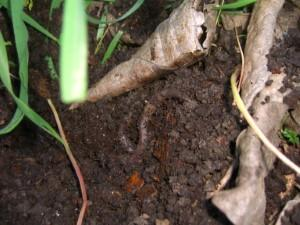earthworms: (115, 76, 212, 161)
